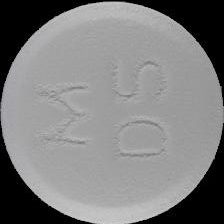49999-593: (0, 0, 224, 224)
